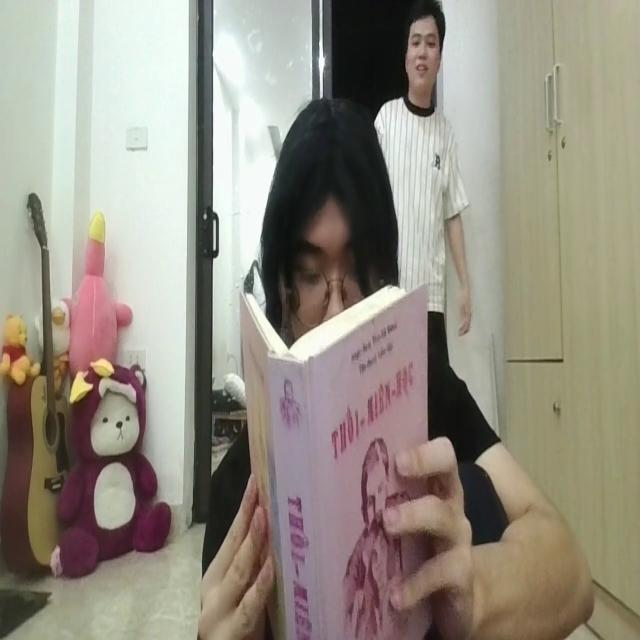book: (236, 286, 435, 640)
extra_person: (382, 8, 472, 330)
student: (205, 99, 594, 640)
